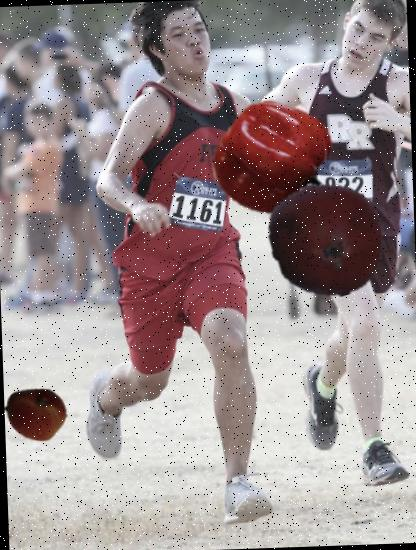Nectarine: (4, 382, 69, 447)
Pepper: (211, 96, 336, 221)
Pomegranate: (266, 181, 386, 301)
